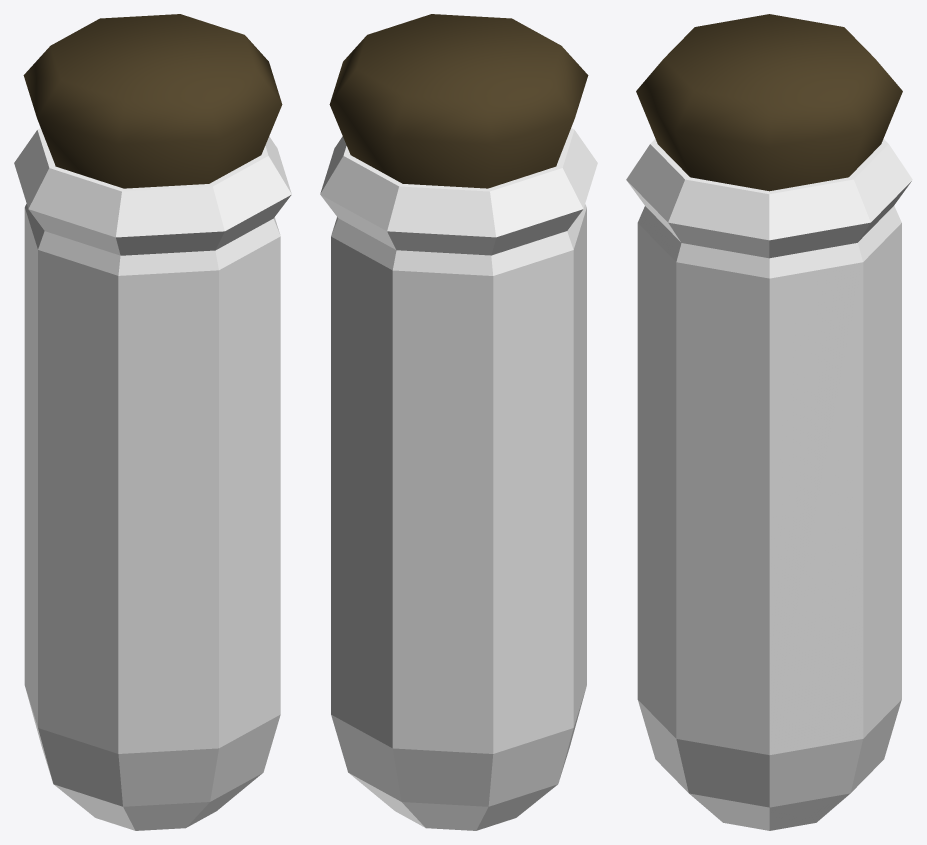
File: YellowPotion.fbx
The picture shows the model from 3 angles, left to right: view 1: azimuth 30°, elevation 25°; view 2: azimuth 150°, elevation 25°; view 3: azimuth 270°, elevation 25°; orthographic projection.
Visible parts, largest first — view 1: Sphere, Cylinder; view 2: Sphere, Cylinder; view 3: Sphere, Cylinder.
Boxes of the visible parts, box(x1,y1,x2,y2) form: Sphere: box(14, 128, 291, 830); Cylinder: box(23, 14, 282, 188); Sphere: box(320, 128, 597, 830); Cylinder: box(329, 14, 588, 188); Sphere: box(626, 138, 912, 830); Cylinder: box(636, 14, 902, 191).
Size of the model in its own units: 256 by 748 by 256.
